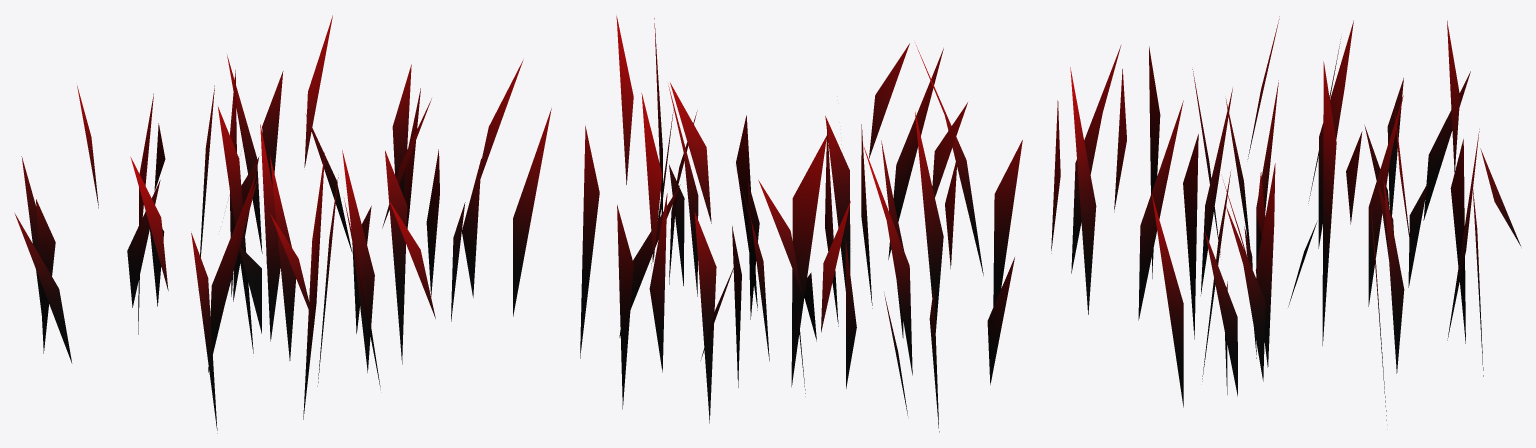
File: Newgrass_10020001_01_Plain_LOD1.fbx
3 views of the same model, side by side, from view 1: azimuth 30°, elevation 25°; view 2: azimuth 150°, elevation 25°; view 3: azimuth 270°, elevation 25° (orthographic). The views are drawn at different scales.
Visible parts, largest first — view 1: Newgrass_10020001_01_Plain; view 2: Newgrass_10020001_01_Plain; view 3: Newgrass_10020001_01_Plain.
Part boxes in pixels (box(x1,y1,x2,y2)): Newgrass_10020001_01_Plain: box(14, 15, 551, 433); Newgrass_10020001_01_Plain: box(580, 16, 1022, 432); Newgrass_10020001_01_Plain: box(1051, 16, 1520, 420).
Bounding box in the file's own units: 152 × 92.84 × 130.
